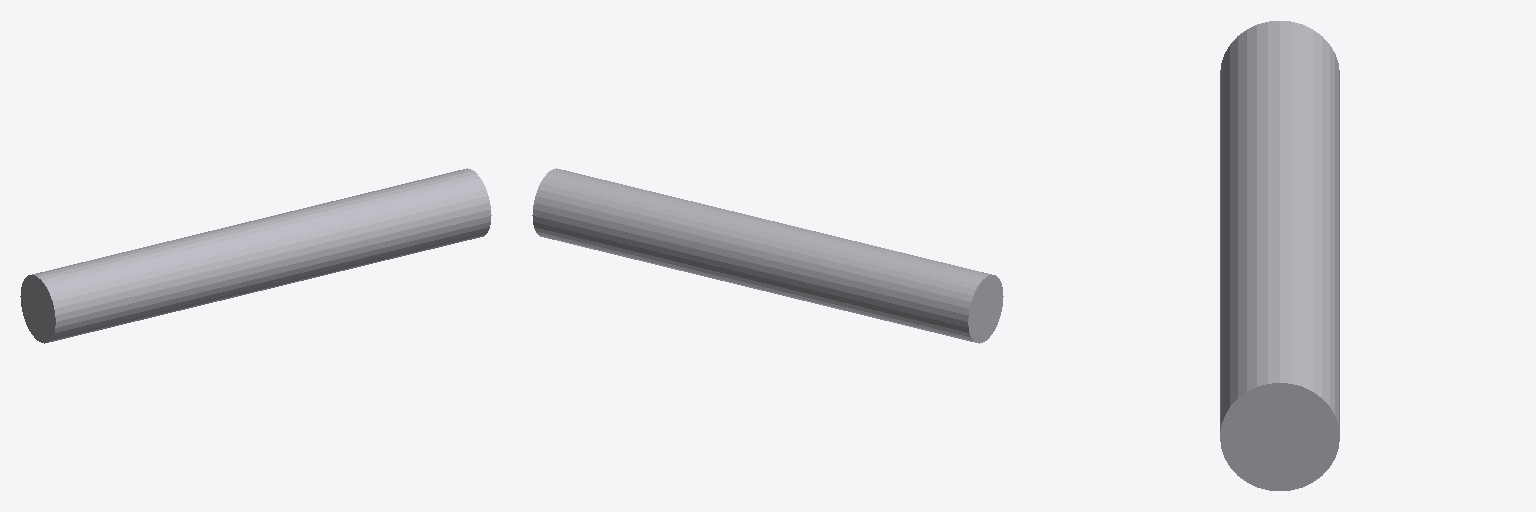
URDF robot description (driver):
<?xml version="1.0"?>
<!-- GENERATED by build_scene.py: edit the generator, not this file. -->
<!-- Cordless drill/driver: visual = YCB 035_power_drill scan (CC BY 4.0,
     see assets/ycb_035_power_drill/README.md); collision = primitives
     fitted to it, plus a driver bit the scan lacks. -->
<robot name="driver">
  <link name="base_link">
    <inertial>
      <origin xyz="0 0 0.09"/>
      <mass value="0.895"/>
      <inertia ixx="3e-3" ixy="0" ixz="0" iyy="3e-3" iyz="0" izz="2e-3"/>
    </inertial>
    <visual>
      <origin xyz="-0.030 -0.0255 0.0832" rpy="1.5707963 0 3.1415927"/>
      <geometry><mesh filename="../assets/ycb_035_power_drill/textured.obj"/></geometry>
    </visual>
    <visual>
      <origin xyz="0.142 0.0 0.16" rpy="0 1.5707963 0"/>
      <geometry><cylinder radius="0.0035" length="0.05"/></geometry>
      <material name="bit_mat"><color rgba="0.75 0.75 0.78 1"/></material>
    </visual>
    <collision name="battery">
      <origin xyz="0.0 0.0 0.017" rpy="0 0 0"/>
      <geometry><box size="0.11 0.06 0.034"/></geometry>
    </collision>
    <collision name="handle">
      <origin xyz="-0.022 0.0 0.0815" rpy="0 0 0"/>
      <geometry><box size="0.054 0.038 0.097"/></geometry>
    </collision>
    <collision name="trigger">
      <origin xyz="0.018 0.0 0.108" rpy="0 0 0"/>
      <geometry><box size="0.04 0.038 0.04"/></geometry>
    </collision>
    <collision name="body">
      <origin xyz="0.007 0.0 0.159" rpy="0 0 0"/>
      <geometry><box size="0.17 0.056 0.062"/></geometry>
    </collision>
    <collision name="chuck">
      <origin xyz="0.1045 0.0 0.16" rpy="0 1.5707963 0"/>
      <geometry><cylinder radius="0.02" length="0.025"/></geometry>
    </collision>
    <collision name="bit">
      <origin xyz="0.142 0.0 0.16" rpy="0 1.5707963 0"/>
      <geometry><cylinder radius="0.0035" length="0.05"/></geometry>
    </collision>
  </link>
</robot>

--- Render facts (derived) ---
Views: 3 orthographic renders of the robot side by side, from view 1: azimuth 30°, elevation 25°; view 2: azimuth 150°, elevation 25°; view 3: azimuth 270°, elevation 25°.
Robot: driver — 1 links, 0 joints (none); root link base_link; default pose: all joints at 0.
Links seen in each view (by area): view 1: base_link; view 2: base_link; view 3: base_link.
Link boxes in pixels (x1=…): base_link: x1=20, y1=168, x2=491, y2=343; base_link: x1=532, y1=168, x2=1003, y2=343; base_link: x1=1220, y1=21, x2=1339, y2=490.
Bounding box of the posed robot: 0.05 × 0.007 × 0.007 m (x, y, z).
0 mesh visuals loaded from 1 distinct referenced files (none loaded); not drawn: 1 (reference not matched to a file when rendering).
